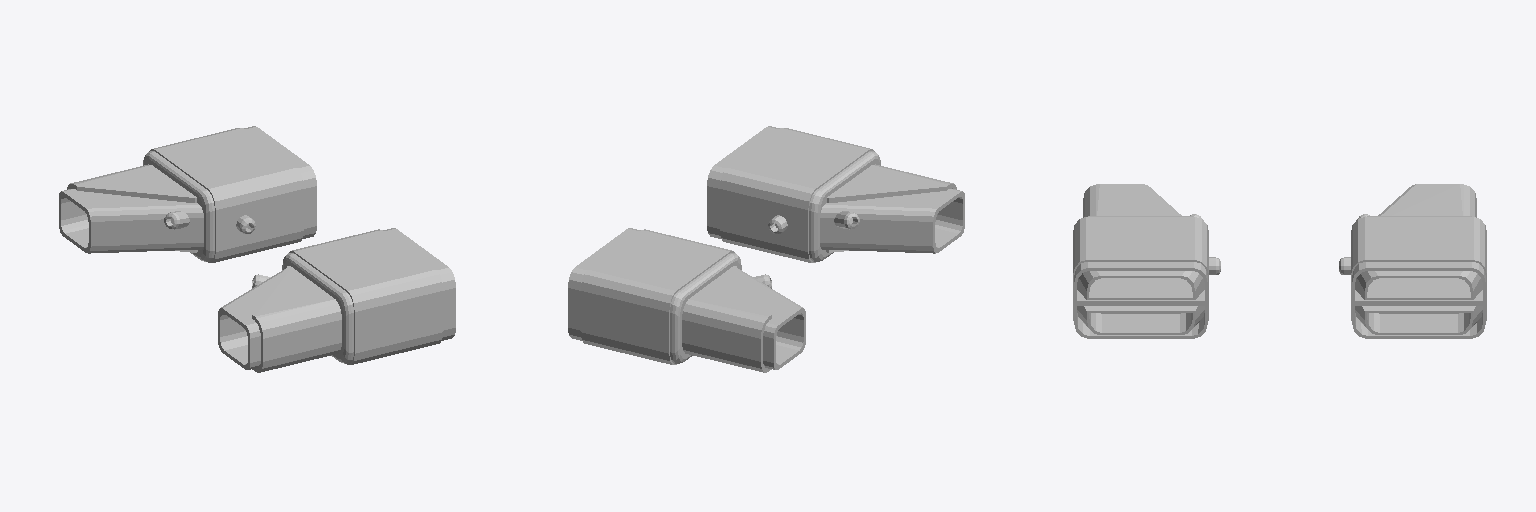
The model's file is thrusters-2.obj.
3 views of the same model, side by side, from view 1: azimuth 30°, elevation 25°; view 2: azimuth 150°, elevation 25°; view 3: azimuth 270°, elevation 25° (orthographic).
Visible parts, largest first — view 1: thrusters-2; view 2: thrusters-2; view 3: thrusters-2.
Part boxes in pixels (bbox=[...]): thrusters-2: bbox=[59, 126, 455, 372]; thrusters-2: bbox=[568, 126, 964, 372]; thrusters-2: bbox=[1073, 184, 1486, 338].
Bounding box in the file's own units: 1.68 × 0.582 × 2.96.